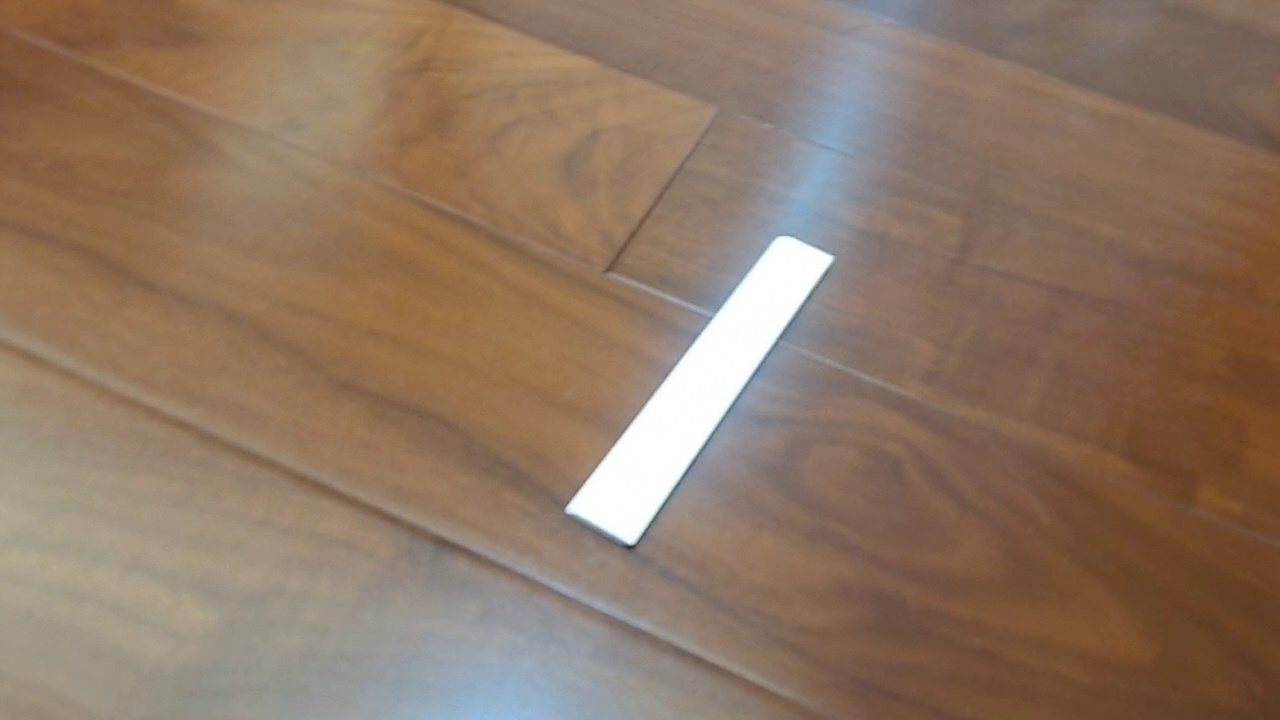ruler: (563, 233, 836, 550)
